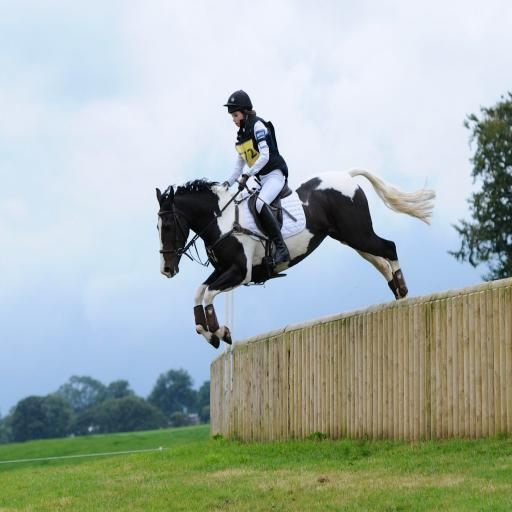Horse: (154, 163, 438, 351)
